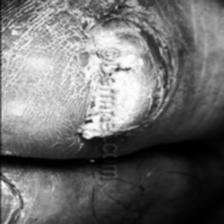Toxin: (79, 10, 173, 138)
